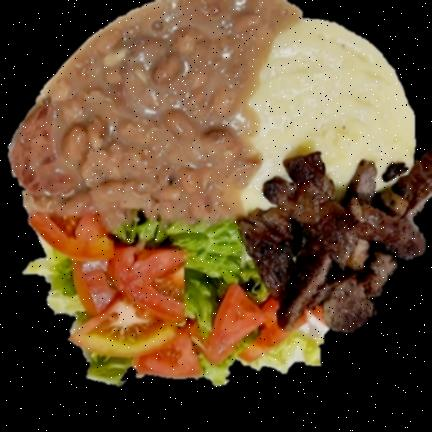beans: (6, 0, 302, 220)
meat: (236, 148, 432, 335)
potato: (242, 17, 412, 213)
salad: (97, 219, 273, 334), (23, 240, 87, 340), (255, 312, 332, 375), (195, 339, 253, 384), (80, 351, 135, 383)
tomato: (31, 211, 308, 377)
